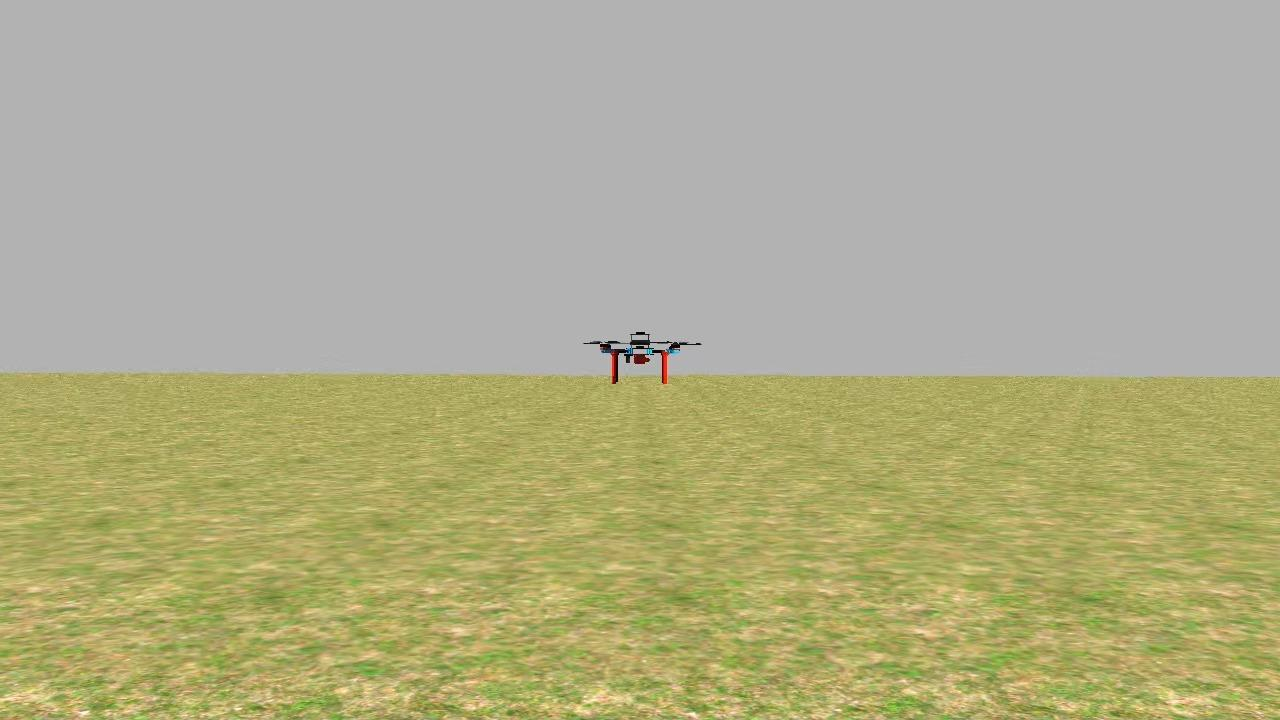UAV: (582, 326, 692, 398)
